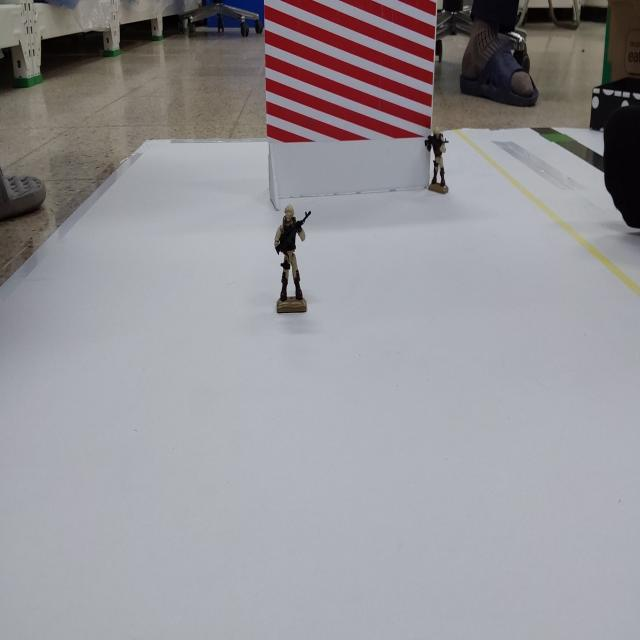ally: (275, 204, 311, 313), (424, 126, 449, 194)
